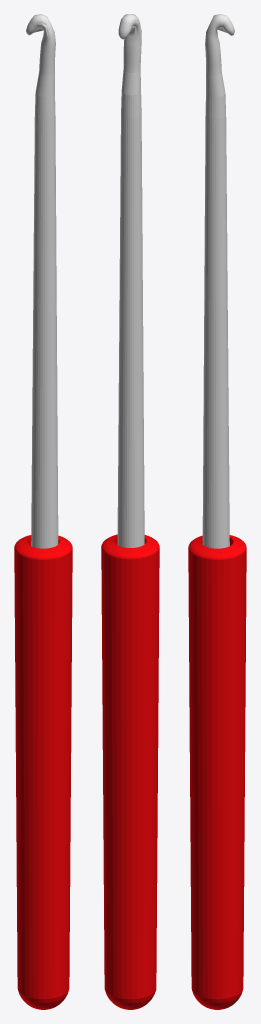
File: Crochet Needle.fbx
The picture shows the model from 3 angles, left to right: view 1: azimuth 90°, elevation 25°; view 2: azimuth 150°, elevation 25°; view 3: azimuth 270°, elevation 25°; orthographic projection.
Parts seen in each view (by area): view 1: Sphere.001; view 2: Sphere.001; view 3: Sphere.001.
Boxes of the visible parts, x1,y1,x2,y2 form: Sphere.001: (14, 14, 72, 1009); Sphere.001: (101, 14, 159, 1009); Sphere.001: (188, 14, 246, 1009).
Size of the model in its own units: 25.11 by 471 by 25.11.
